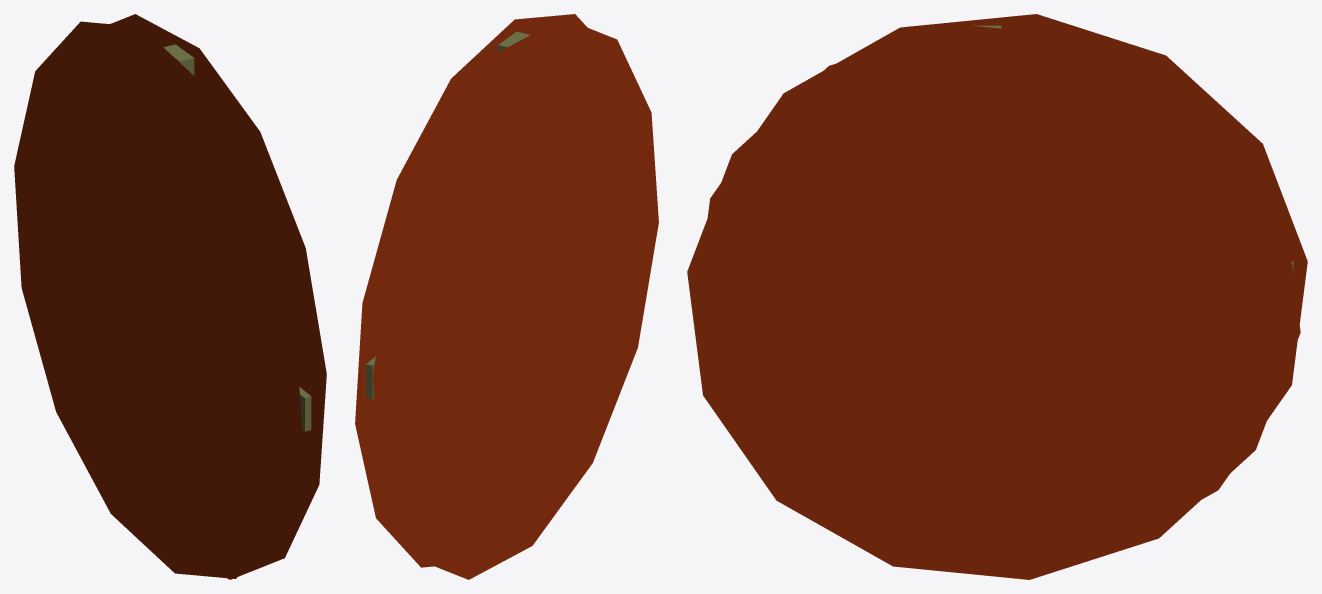
File: ROTORTL.glb
3 renders of one model, left to right at view 1: azimuth 30°, elevation 25°; view 2: azimuth 150°, elevation 25°; view 3: azimuth 270°, elevation 25°, orthographic. The views are drawn at different scales.
Visible parts, largest first — view 1: ROTORTL | archived geometry; view 2: ROTORTL | archived geometry; view 3: ROTORTL | archived geometry.
Part boxes in pixels (bbox=[...]): ROTORTL | archived geometry: bbox=[14, 14, 326, 579]; ROTORTL | archived geometry: bbox=[355, 14, 658, 579]; ROTORTL | archived geometry: bbox=[687, 14, 1307, 579].
Size of the model in its own units: 0.0606 by 1.43 by 1.45.
